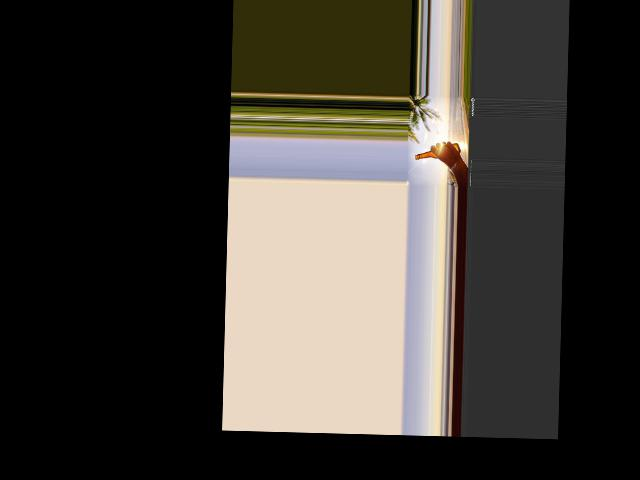beer: (415, 142, 461, 161)
